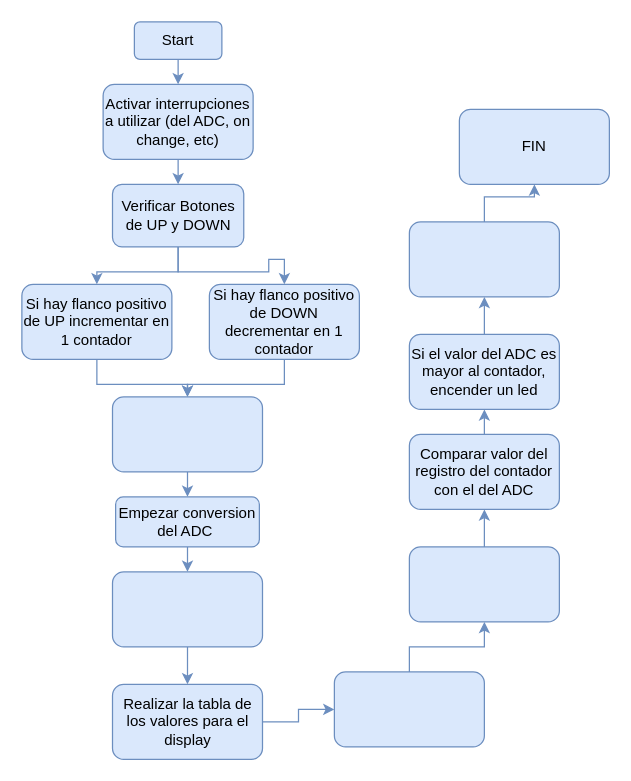
Image size: 631x781. Some labels were removed from this diagram. The shapes that lost their labels are listed below. From the top down, each one's centre as x and y in pixels, then its label:
At (483,259): "Si el valor del ADC es menor al contador, se mantiene apaado el led".
At (186,434): "Configurar las interrupciones del ADC".
At (483,584): "Realizar codigo para multiplexado entre ambos displays".
At (186,609): "Tomar los 8 msb y colocarlos en un registro".
At (408,709): "Relacionar el valor del registo con cada display".
